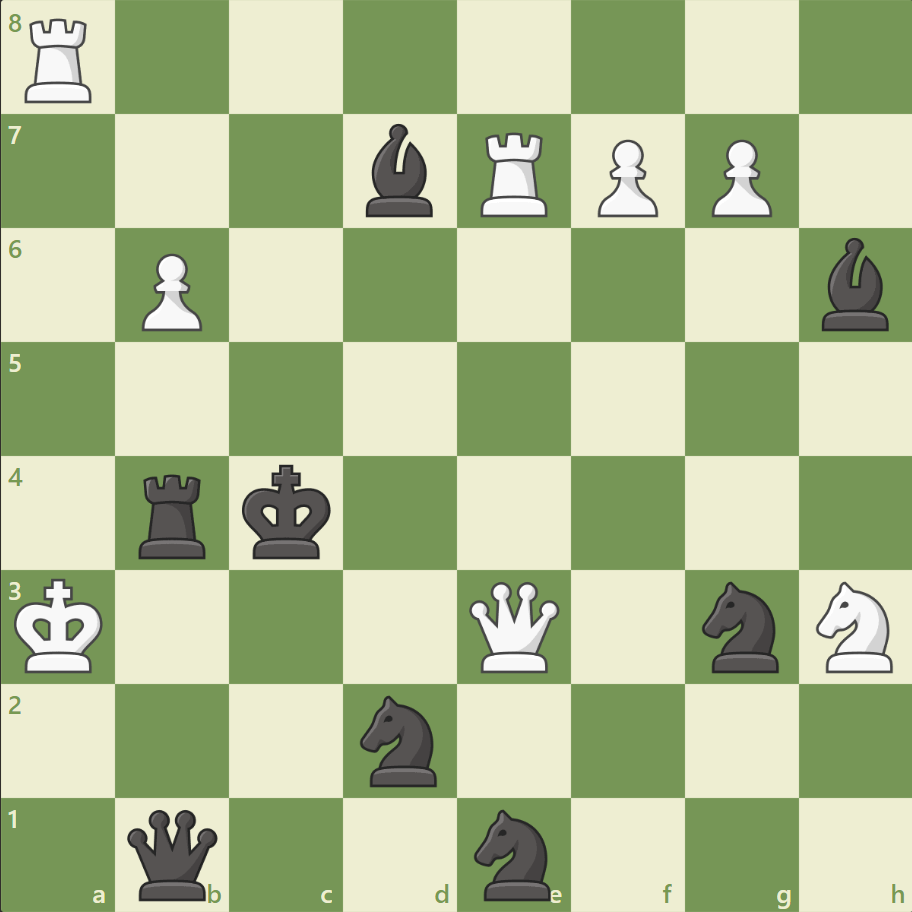K: (11, 571, 111, 679)
N: (806, 575, 903, 677)
P: (701, 132, 776, 223), (133, 246, 208, 337), (588, 132, 662, 223)
Q: (464, 576, 563, 676)
R: (19, 12, 102, 109), (473, 125, 556, 222)
b: (812, 233, 896, 336), (358, 120, 442, 222)
k: (238, 458, 338, 566)
n: (351, 688, 449, 791), (692, 575, 789, 677), (465, 802, 562, 904)
q: (124, 804, 223, 903)
r: (133, 466, 215, 563)
